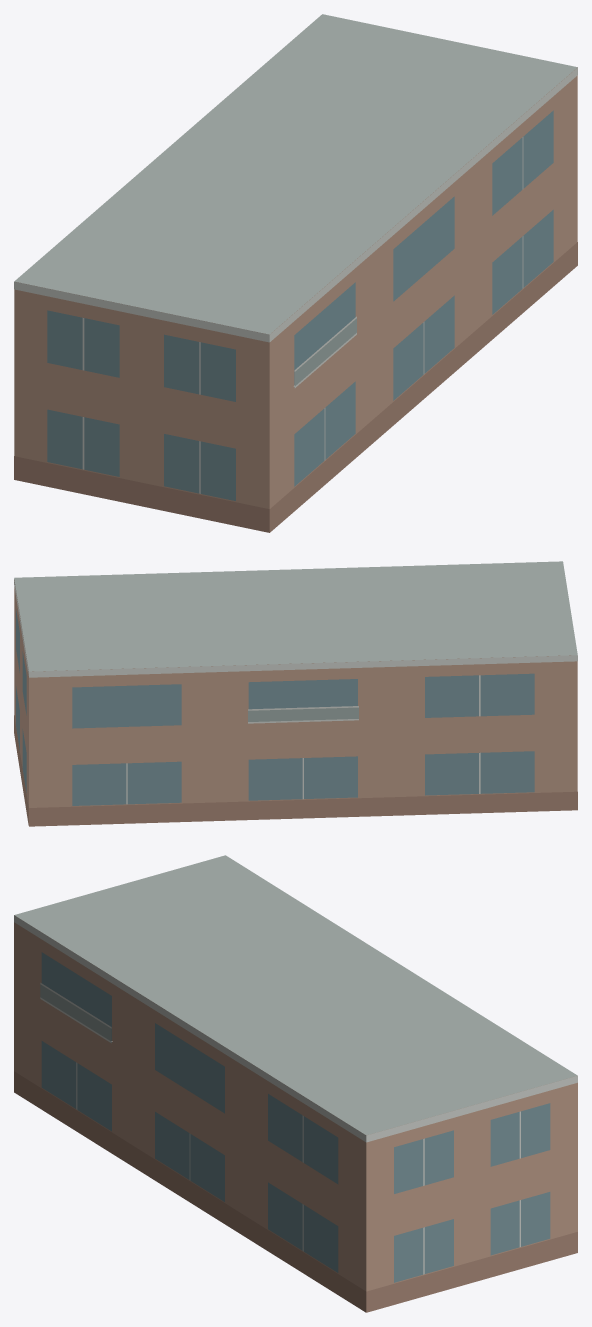
File: survey-upis-32882646.glb
The picture shows the model from 3 angles, top to bottom: view 1: azimuth 30°, elevation 25°; view 2: azimuth 150°, elevation 25°; view 3: azimuth 270°, elevation 25°; orthographic projection. The views are drawn at different scales.
Visible parts, largest first — view 1: survey-upis-32882646.tmp; view 2: survey-upis-32882646.tmp; view 3: survey-upis-32882646.tmp.
Boxes of the visible parts, x1,y1,x2,y2 form: survey-upis-32882646.tmp: (14,14,577,532); survey-upis-32882646.tmp: (14,561,577,826); survey-upis-32882646.tmp: (14,855,577,1312).
Size of the model in its own units: 20.69 by 6.1 by 17.59.
